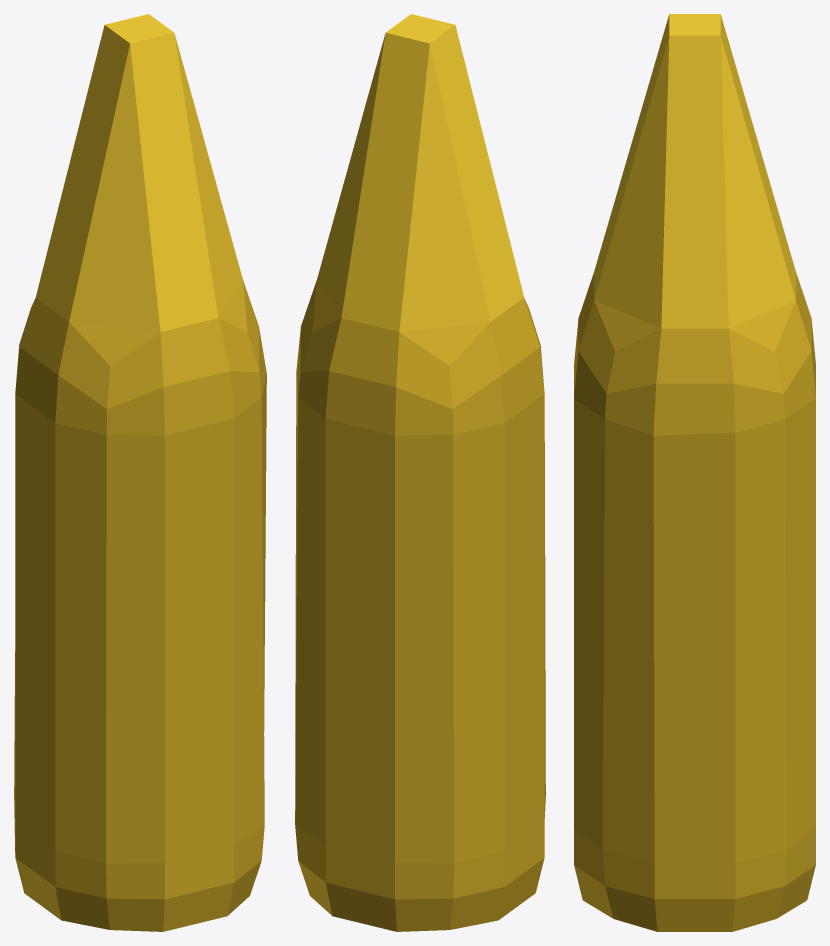
File: Ammo.fbx
3 renders of one model, left to right at view 1: azimuth 30°, elevation 25°; view 2: azimuth 150°, elevation 25°; view 3: azimuth 270°, elevation 25°, orthographic.
Visible parts, largest first — view 1: Cube; view 2: Cube; view 3: Cube.
Part boxes in pixels (x1=…): Cube: x1=14, y1=14, x2=266, y2=931; Cube: x1=295, y1=14, x2=545, y2=931; Cube: x1=574, y1=14, x2=815, y2=931.
Bounding box in the file's own units: 37.75 × 146 × 37.26.
